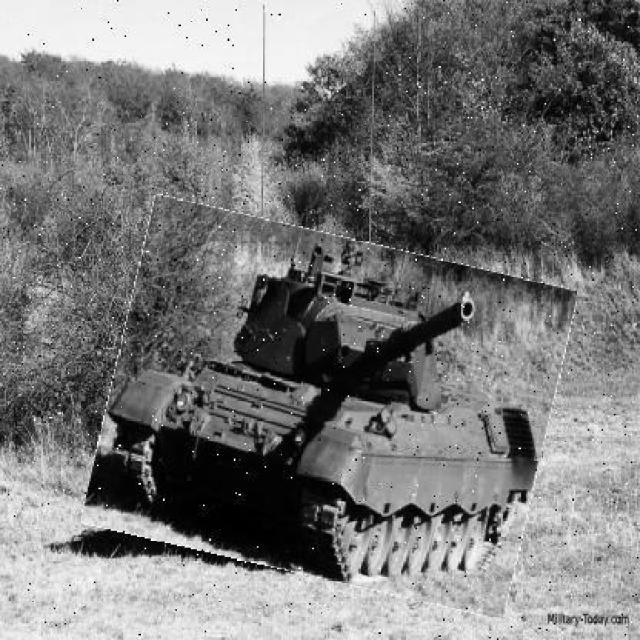Tank: (98, 218, 562, 598)
